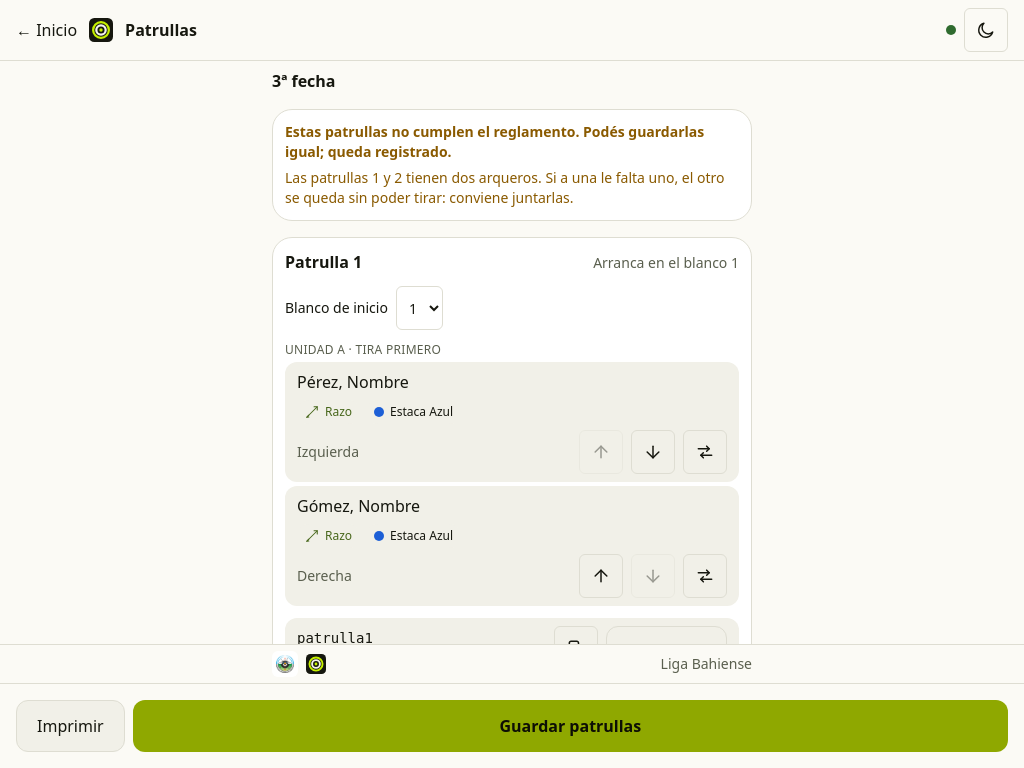
it: edición manual › NO deja guardar una patrulla con un solo arquero, y dice cuál
Expected: the element with test id "patrulla-1" is shown, left=272, top=237, right=752, bottom=644
Click the button named "Mover a Pérez a otra patrulla" at (705, 452), box left=683, top=430, right=727, bottom=474
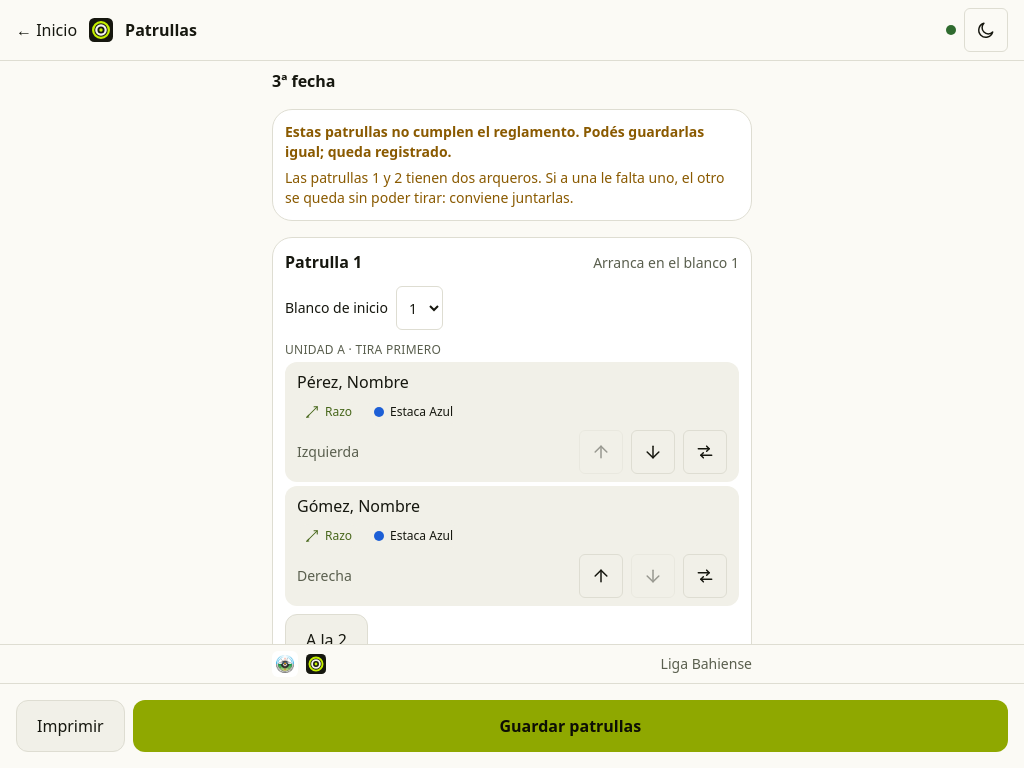
Click the button "A la 2" at (326, 640), box left=285, top=614, right=368, bottom=666
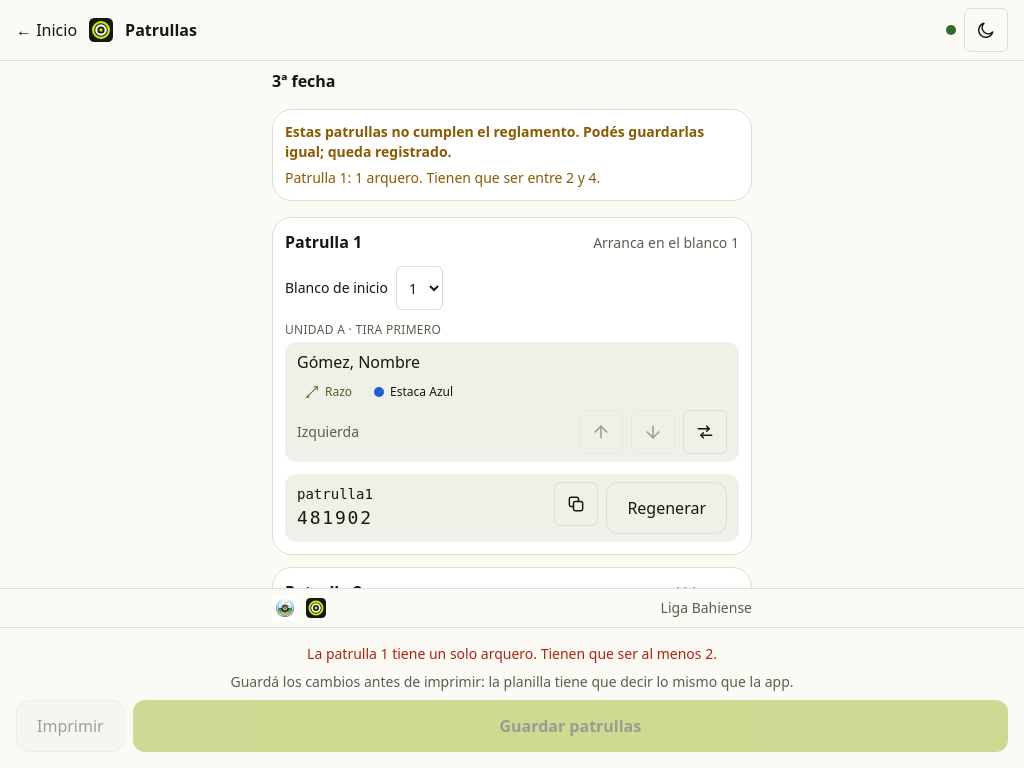
Expected: the text "La patrulla 1 tiene un solo arquero" is shown, left=307, top=644, right=717, bottom=663
Expected: the button "Guardar patrullas" is disabled, left=133, top=700, right=1008, bottom=752
